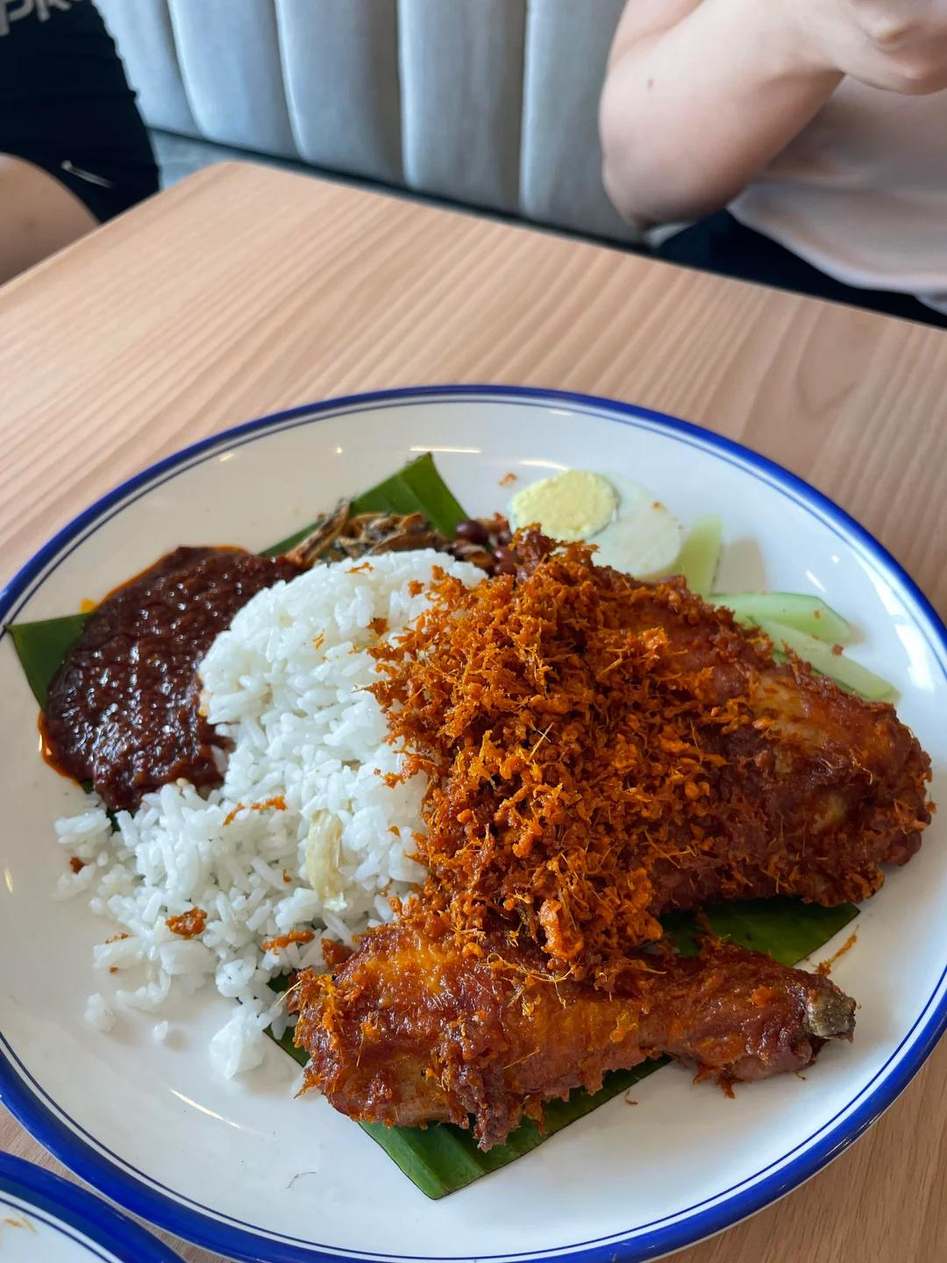Anchovies: (273, 509, 432, 571)
Boiled-Egg: (503, 469, 689, 585)
Cucumber: (682, 513, 899, 704)
Fried-Chicken: (286, 551, 933, 1153)
Peanuts: (436, 521, 539, 576)
Rice: (52, 550, 478, 1087)
Sambal: (42, 549, 286, 814)
